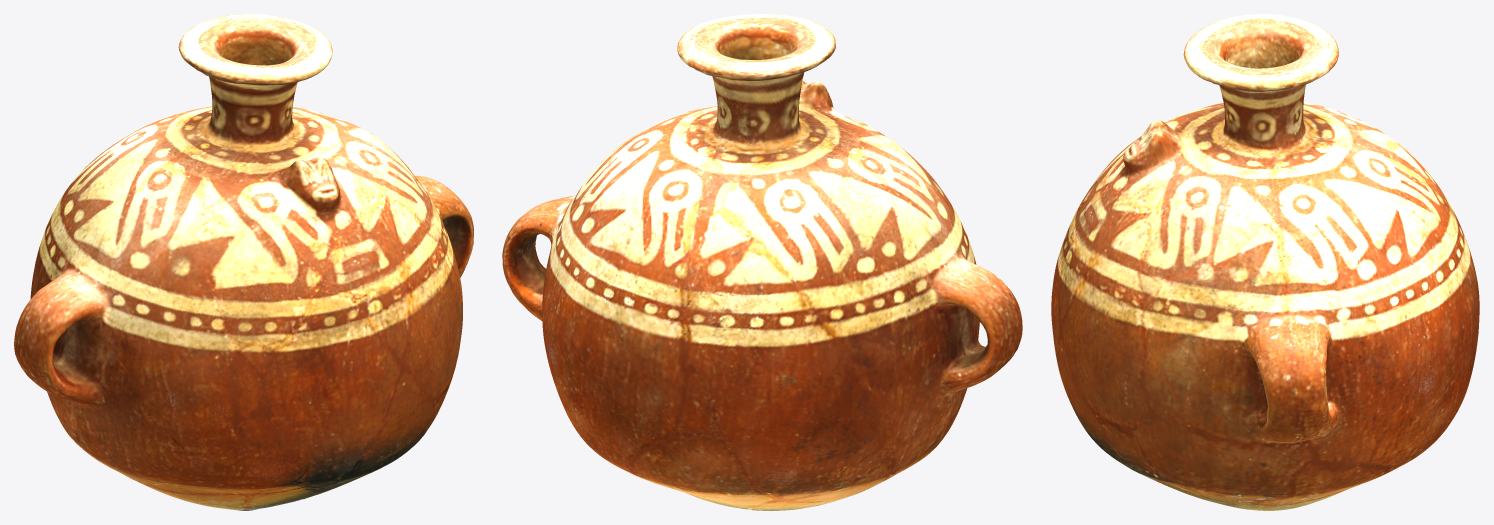
File: aribalo.glb
3 renders of one model, left to right at view 1: azimuth 30°, elevation 25°; view 2: azimuth 150°, elevation 25°; view 3: azimuth 270°, elevation 25°, orthographic.
Visible parts, largest first — view 1: Model; view 2: Model; view 3: Model.
Part boxes in pixels (box(x1,y1,x2,y2)): Model: box(14, 14, 473, 510); Model: box(502, 14, 1022, 510); Model: box(1051, 14, 1479, 510).
Size of the model in its own units: 2.41 by 2.26 by 1.9.
1 material, 1 textured.
